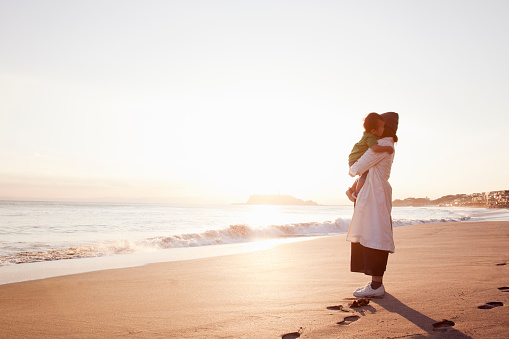em pe: (337, 108, 403, 309)
